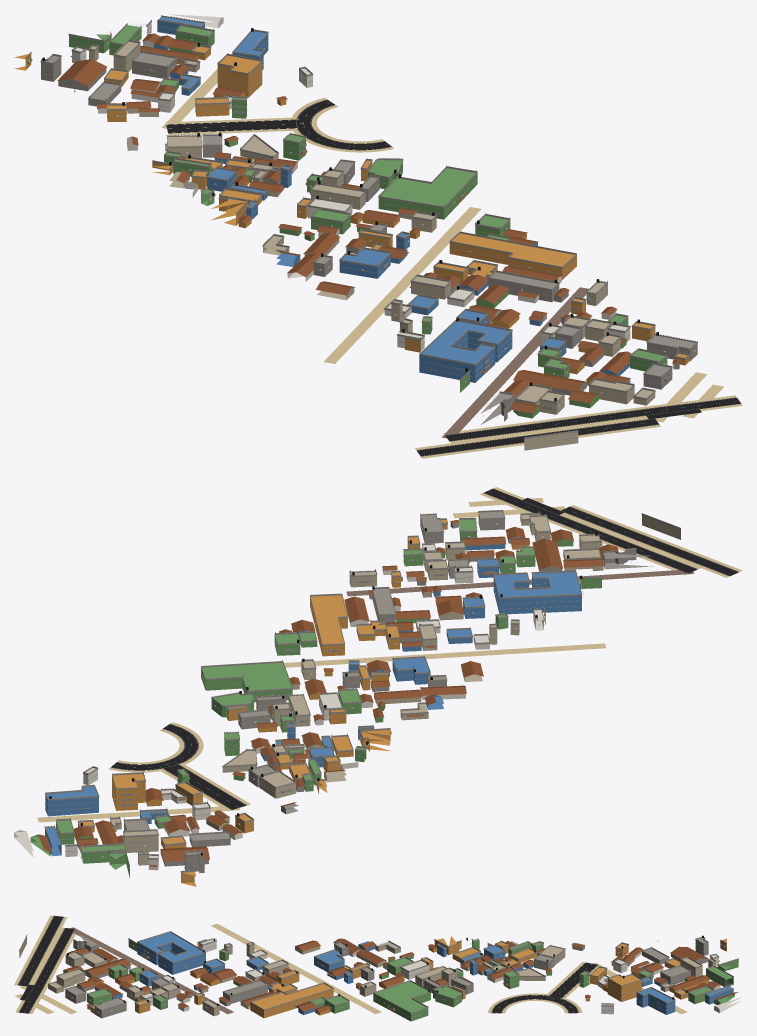
Rendered from zone_t7_2.glb.
3 renders of one model, top to bottom at view 1: azimuth 30°, elevation 25°; view 2: azimuth 150°, elevation 25°; view 3: azimuth 270°, elevation 25°, orthographic. The views are drawn at different scales.
Visible parts, largest first — view 1: parapet_t7_2, toit_tole_t7_2, bld_peinture_vert_t7_2-col, bld_peinture_ocre_t7_2-col, bld_peinture_ecaillee_t7_2-col, bld_peinture_bleu_t7_2-col, bld_beton_t7_2-col, route_secondary_bitume_t7_2, accotement_t7_2, route_residential_terre_t7_2, bld_peinture_blanc_t7_2-col, bandeau_t7_2 (+1 smaller); view 2: parapet_t7_2, toit_tole_t7_2, bld_peinture_vert_t7_2-col, bld_peinture_bleu_t7_2-col, bld_peinture_ecaillee_t7_2-col, bld_peinture_ocre_t7_2-col, bld_beton_t7_2-col, route_secondary_bitume_t7_2, bld_peinture_blanc_t7_2-col, accotement_t7_2, route_residential_terre_t7_2, bandeau_t7_2 (+1 smaller); view 3: parapet_t7_2, toit_tole_t7_2, bld_peinture_vert_t7_2-col, bld_peinture_ocre_t7_2-col, bld_peinture_bleu_t7_2-col, bld_peinture_ecaillee_t7_2-col, bld_beton_t7_2-col, route_secondary_bitume_t7_2, bld_peinture_blanc_t7_2-col, accotement_t7_2, bandeau_t7_2, route_residential_terre_t7_2 (+2 smaller).
Boxes of the visible parts, x1=… form: parapet_t7_2: x1=25, y1=15, x2=697, y2=439; toit_tole_t7_2: x1=57, y1=33, x2=680, y2=413; bld_peinture_vert_t7_2-col: x1=69, y1=21, x2=667, y2=418; bld_peinture_ocre_t7_2-col: x1=14, y1=46, x2=689, y2=385; bld_peinture_ecaillee_t7_2-col: x1=89, y1=41, x2=655, y2=450; bld_peinture_bleu_t7_2-col: x1=154, y1=16, x2=629, y2=382; bld_beton_t7_2-col: x1=41, y1=52, x2=697, y2=424; route_secondary_bitume_t7_2: x1=166, y1=99, x2=741, y2=456; accotement_t7_2: x1=166, y1=97, x2=742, y2=458; route_residential_terre_t7_2: x1=161, y1=53, x2=723, y2=422; bld_peinture_blanc_t7_2-col: x1=72, y1=14, x2=630, y2=350; bandeau_t7_2: x1=26, y1=26, x2=697, y2=445; parapet_t7_2: x1=44, y1=510, x2=680, y2=872; toit_tole_t7_2: x1=38, y1=520, x2=618, y2=861; bld_peinture_vert_t7_2-col: x1=30, y1=519, x2=602, y2=877; bld_peinture_bleu_t7_2-col: x1=45, y1=544, x2=581, y2=856; bld_peinture_ecaillee_t7_2-col: x1=110, y1=514, x2=680, y2=865; bld_peinture_ocre_t7_2-col: x1=78, y1=520, x2=545, y2=886; bld_beton_t7_2-col: x1=124, y1=511, x2=653, y2=873; route_secondary_bitume_t7_2: x1=110, y1=488, x2=738, y2=809; bld_peinture_blanc_t7_2-col: x1=14, y1=544, x2=543, y2=870; accotement_t7_2: x1=108, y1=487, x2=742, y2=811; route_residential_terre_t7_2: x1=37, y1=498, x2=606, y2=822; bandeau_t7_2: x1=45, y1=518, x2=680, y2=877; parapet_t7_2: x1=19, y1=931, x2=738, y2=1013; toit_tole_t7_2: x1=63, y1=938, x2=738, y2=1012; bld_peinture_vert_t7_2-col: x1=63, y1=939, x2=738, y2=1021; bld_peinture_ocre_t7_2-col: x1=90, y1=936, x2=726, y2=1018; bld_peinture_bleu_t7_2-col: x1=95, y1=932, x2=733, y2=1014; bld_peinture_ecaillee_t7_2-col: x1=19, y1=937, x2=715, y2=1016; bld_beton_t7_2-col: x1=65, y1=934, x2=708, y2=1018; route_secondary_bitume_t7_2: x1=17, y1=915, x2=597, y2=1013; bld_peinture_blanc_t7_2-col: x1=140, y1=939, x2=741, y2=1014; accotement_t7_2: x1=14, y1=915, x2=601, y2=1013; bandeau_t7_2: x1=20, y1=939, x2=738, y2=1017; route_residential_terre_t7_2: x1=15, y1=923, x2=687, y2=1014.
Bounding box in the file's own units: 178 × 14 × 517.
